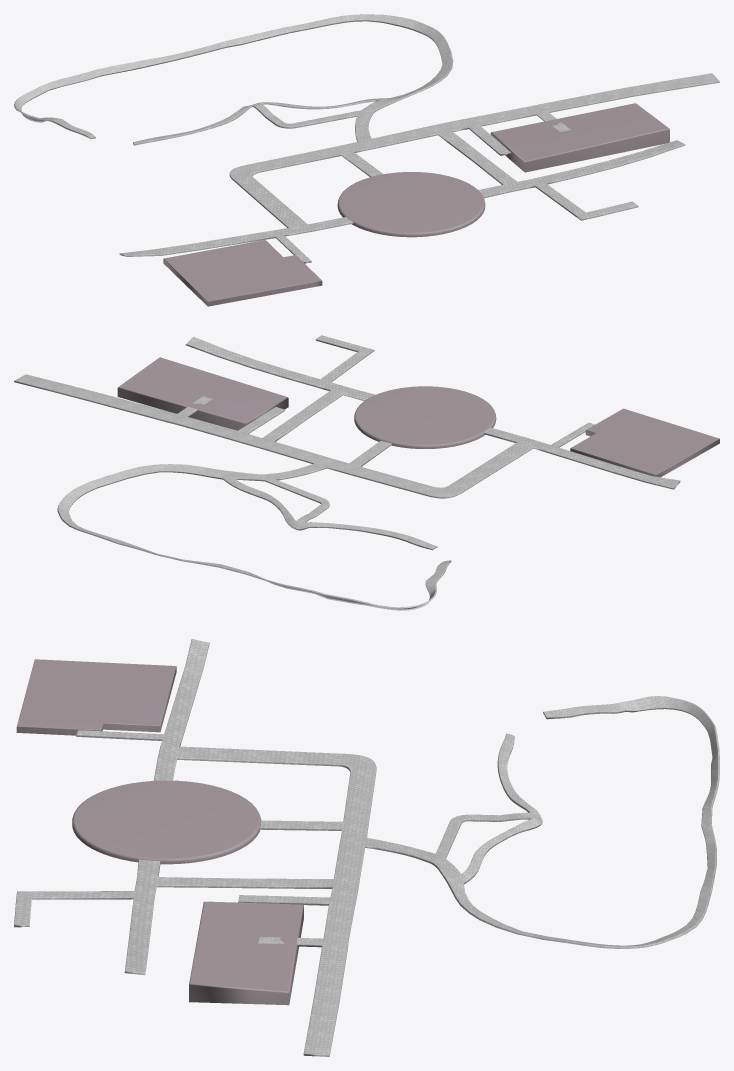
Rendered from roads.fbx.
3 views of the same model, one above another, from view 1: azimuth 30°, elevation 25°; view 2: azimuth 150°, elevation 25°; view 3: azimuth 270°, elevation 25° (orthographic). The views are drawn at different scales.
Visible parts, largest first — view 1: roads, pCylinder4, pCube9, pCube10; view 2: roads, pCylinder4, pCube9, pCube10; view 3: roads, pCylinder4, pCube9, pCube10.
Part boxes in pixels (x1,y1,x2,y2): roads: (14,14,719,263); pCylinder4: (337,172,485,237); pCube9: (490,103,669,172); pCube10: (163,240,322,306); roads: (14,335,680,610); pCylinder4: (354,386,496,448); pCube9: (117,357,288,430); pCube10: (570,408,719,477); roads: (14,639,719,1056); pCylinder4: (72,780,261,864); pCube9: (189,901,303,1005); pCube10: (16,659,176,735).
Size of the model in its own units: 296 by 8.57 by 221.
